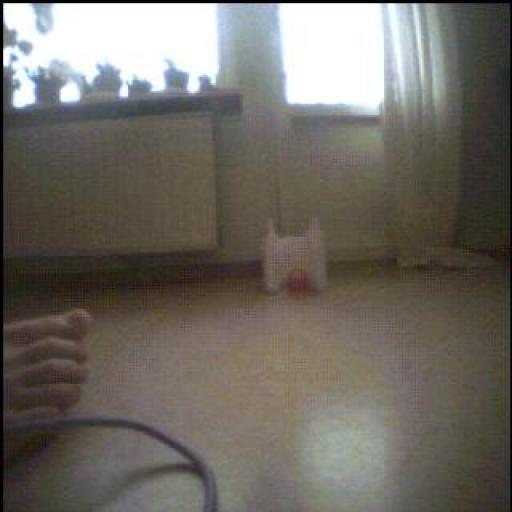Basket: (281, 267, 314, 299)
